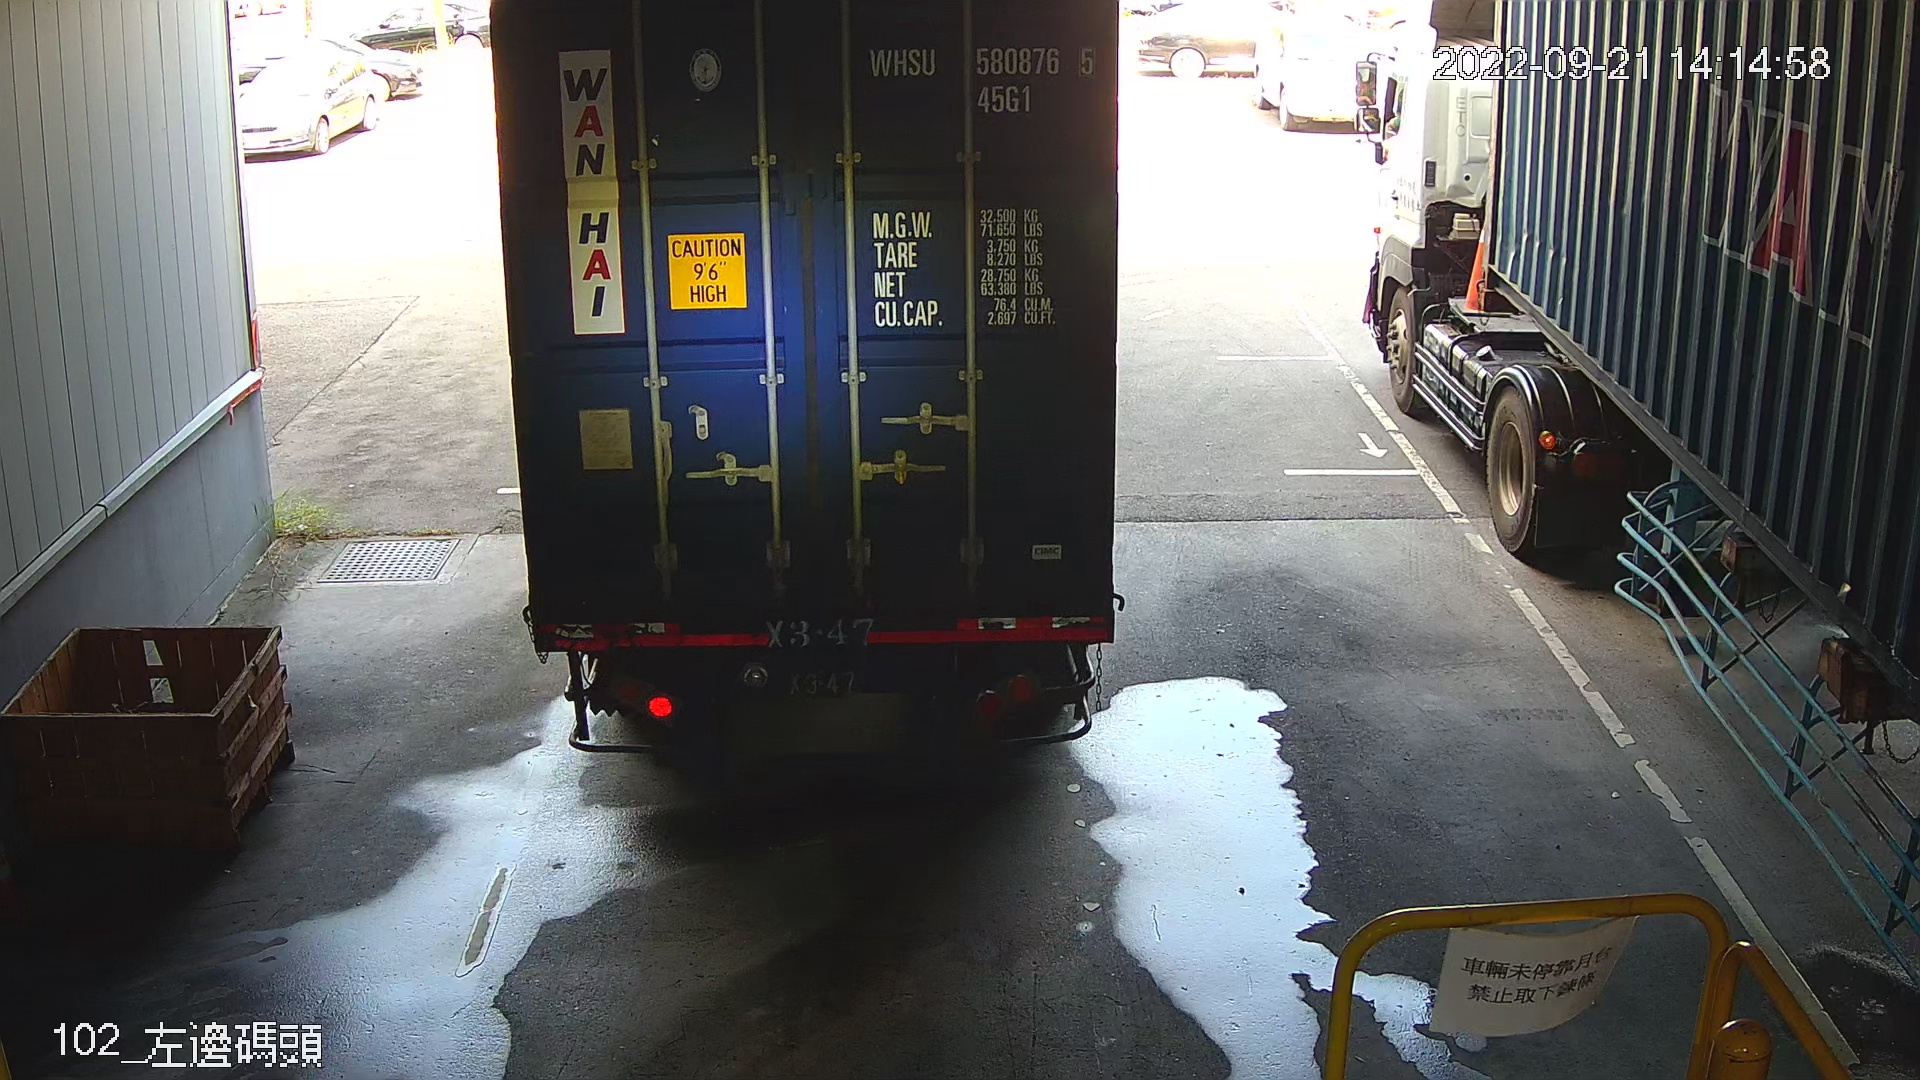container: (860, 36, 1102, 123)
